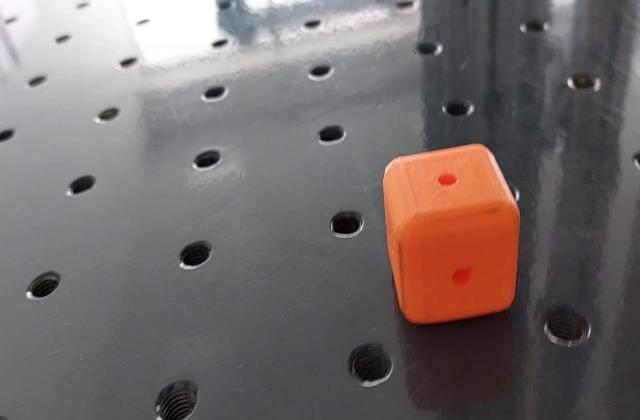cube: (378, 140, 524, 326)
